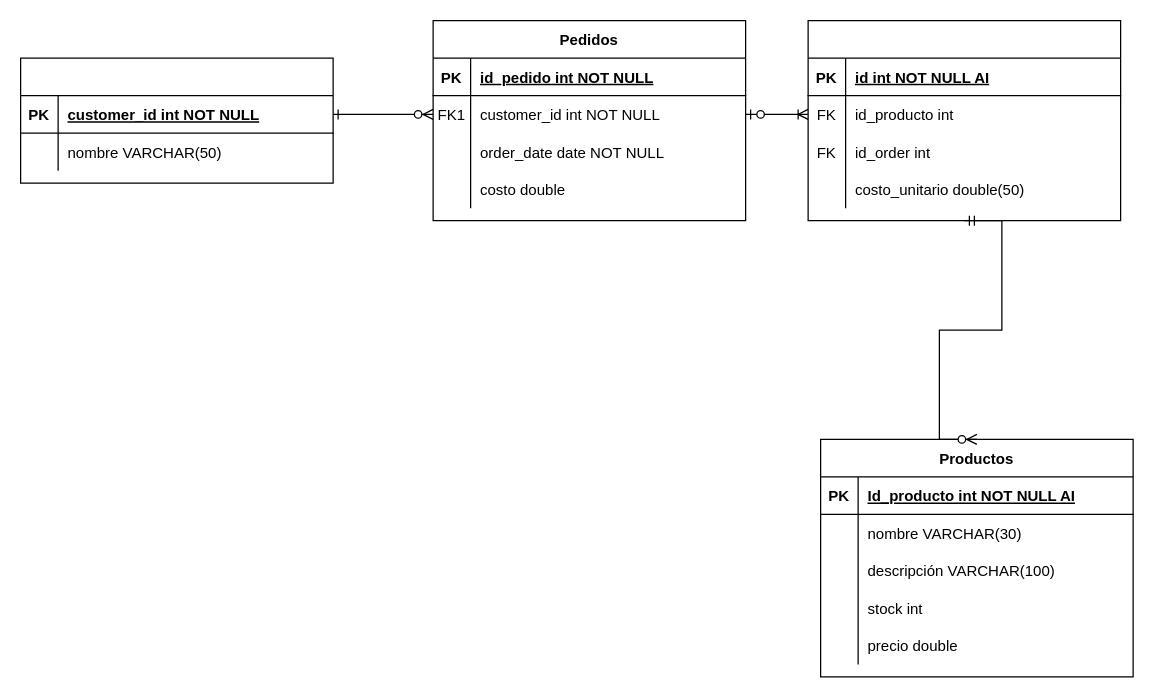
Some shapes in this 1154 by 698 pixel diagram are drawn without their labels. Here are the shapes that lost their labels. From the top down, the box of each, then its label:
(19, 57, 333, 183): Clientes
(807, 19, 1121, 221): PedidosProductos
